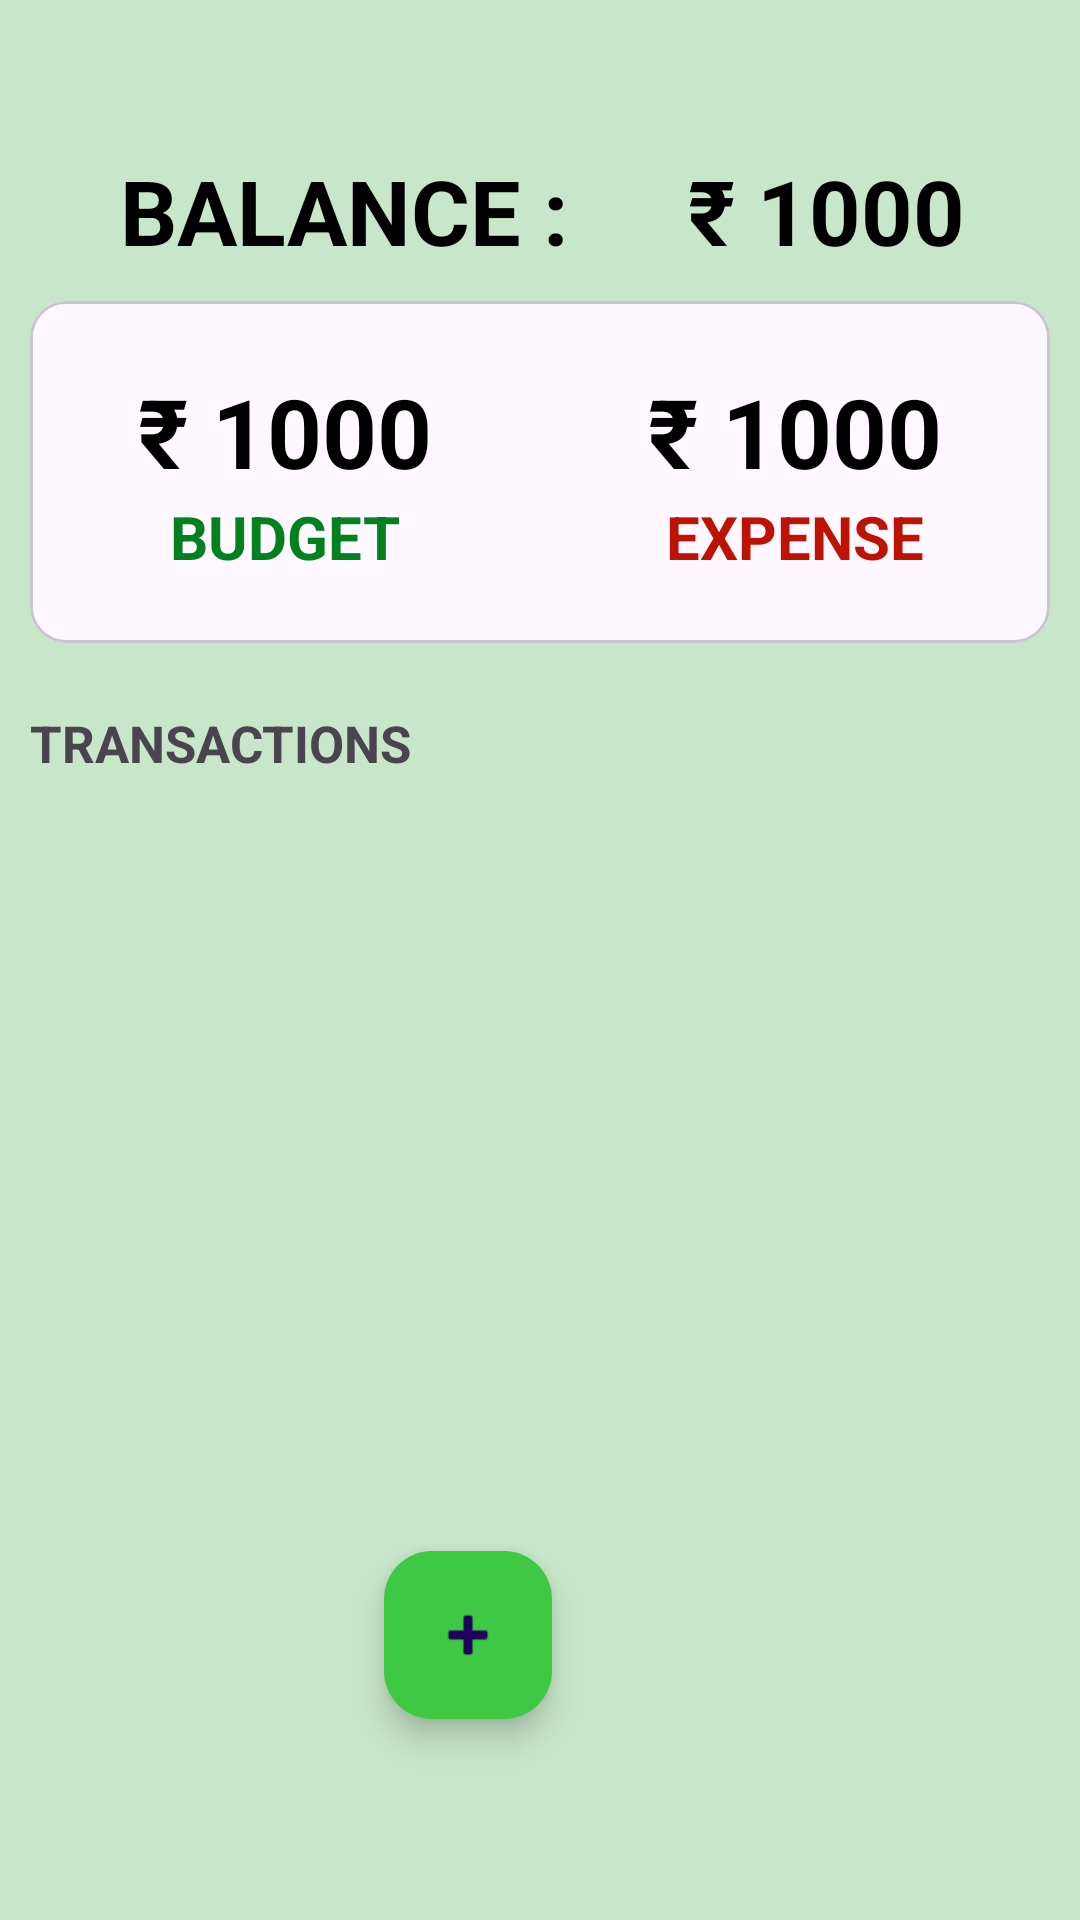

Icons on this 1080px x 1920px Android screen, each with the point to tap as (x=x, y=y):
add: (x=468, y=1635)
